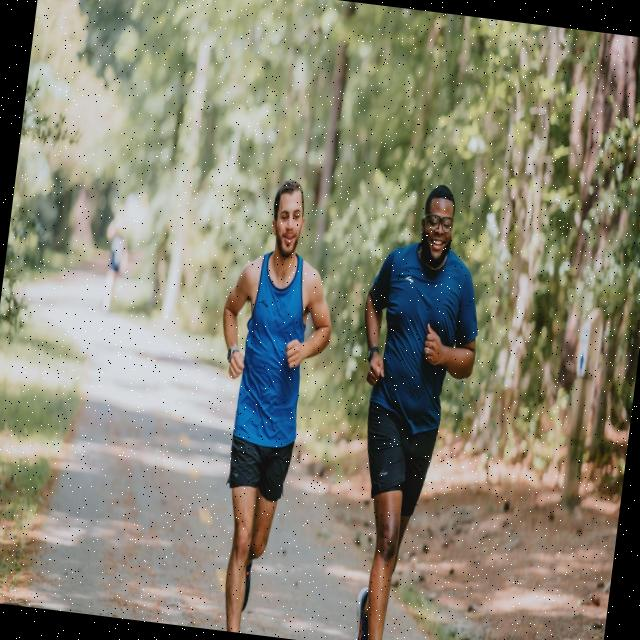Person: (323, 174, 496, 640), (185, 172, 348, 639)
